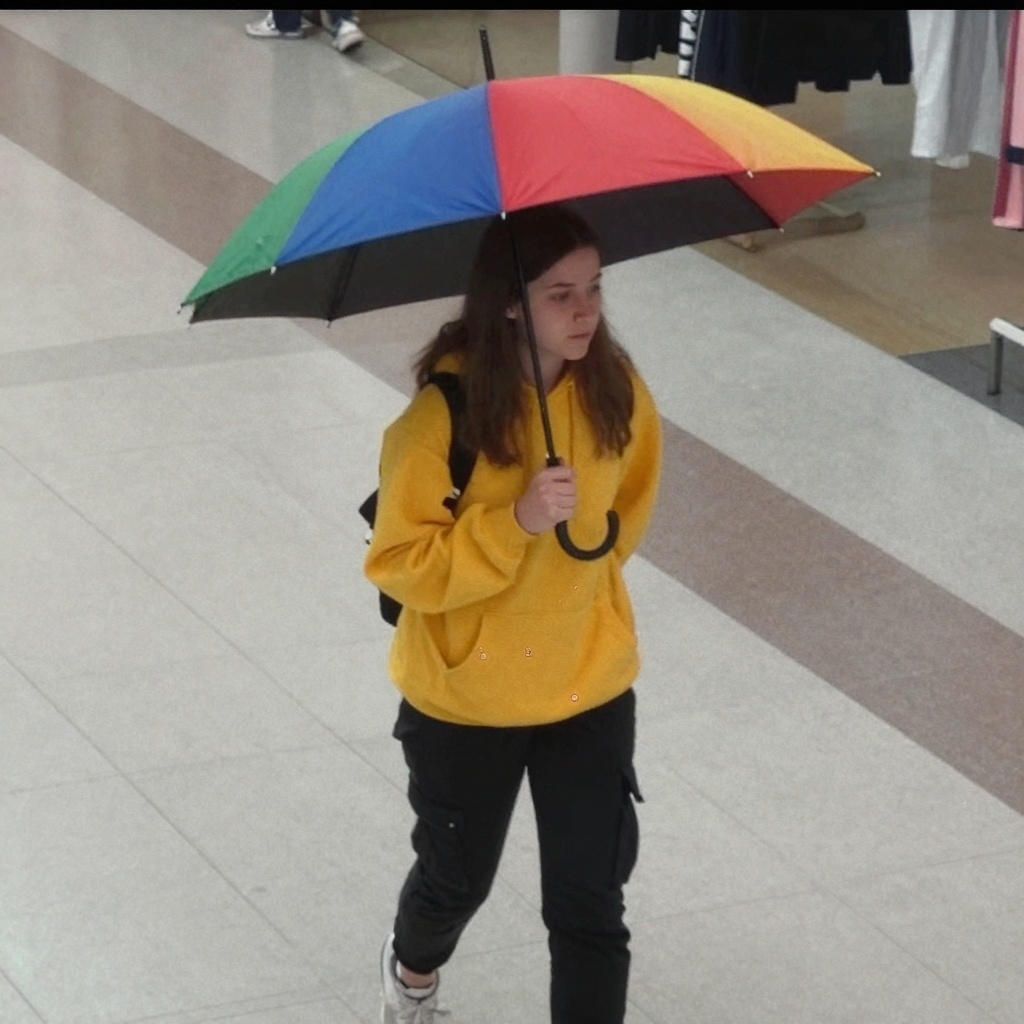Normal activity: (360, 213, 665, 1022), (245, 12, 365, 55)
